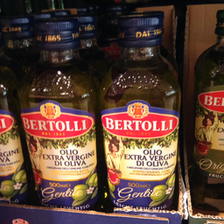oil: (99, 13, 182, 212), (16, 19, 101, 211)
